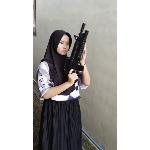Senapan: (58, 22, 98, 86)
